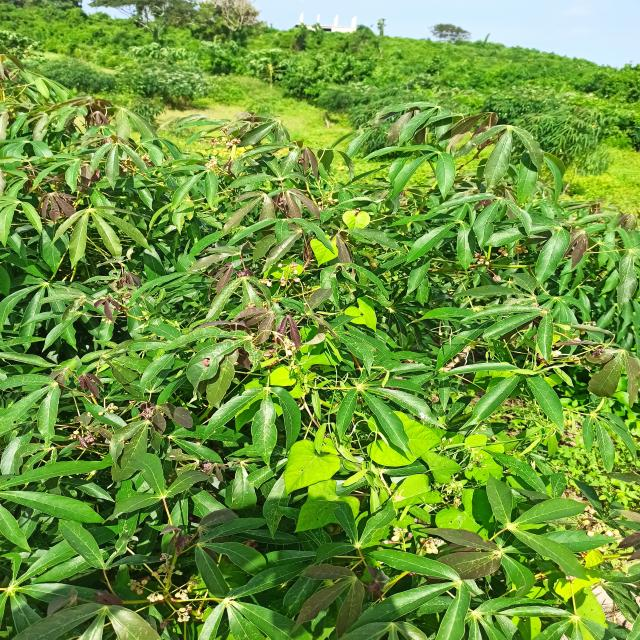Maleza: (365, 424, 467, 519), (212, 68, 320, 114), (513, 423, 578, 472), (282, 435, 338, 487), (349, 296, 381, 327)
Mosaico: (142, 398, 195, 438), (246, 299, 295, 338), (39, 189, 82, 216)
Mosca: (193, 355, 212, 372)
